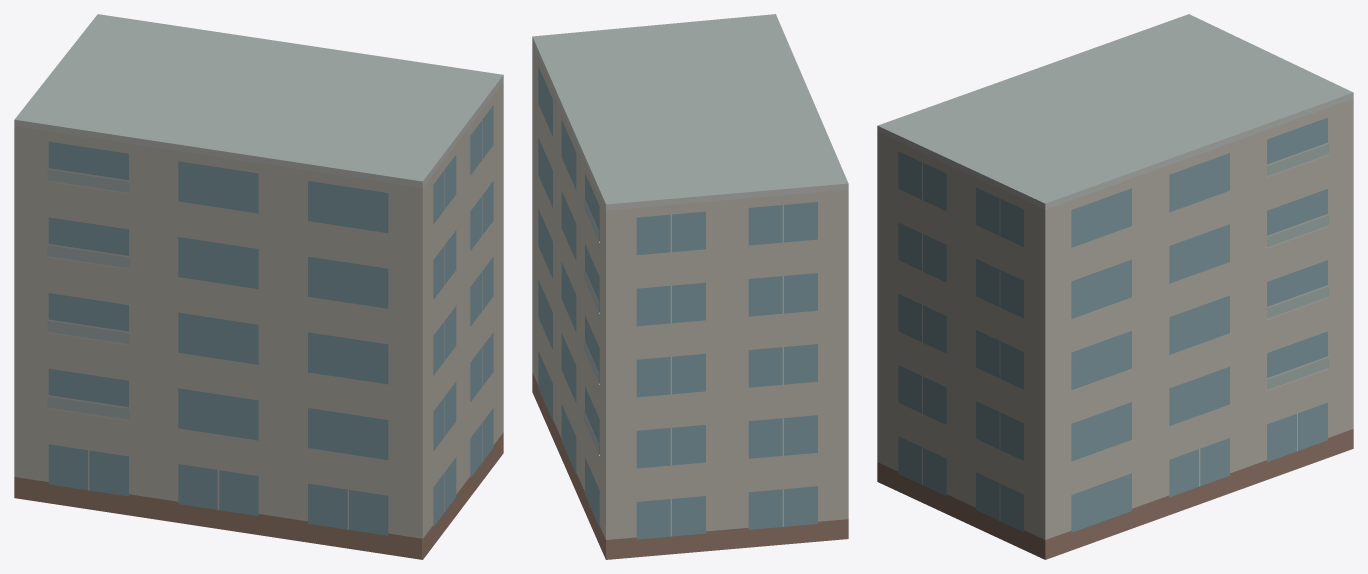
Rendered from survey-upis-32852015.glb.
3 views of the same model, side by side, from view 1: azimuth 30°, elevation 25°; view 2: azimuth 150°, elevation 25°; view 3: azimuth 270°, elevation 25° (orthographic). The views are drawn at different scales.
Parts seen in each view (by area): view 1: survey-upis-32852015.tmp; view 2: survey-upis-32852015.tmp; view 3: survey-upis-32852015.tmp.
Part boxes in pixels (x1,y1,x2,y2): survey-upis-32852015.tmp: (14,14,503,559); survey-upis-32852015.tmp: (532,14,848,559); survey-upis-32852015.tmp: (877,14,1353,559).
Size of the model in its own units: 16.39 by 14.34 by 17.38.
